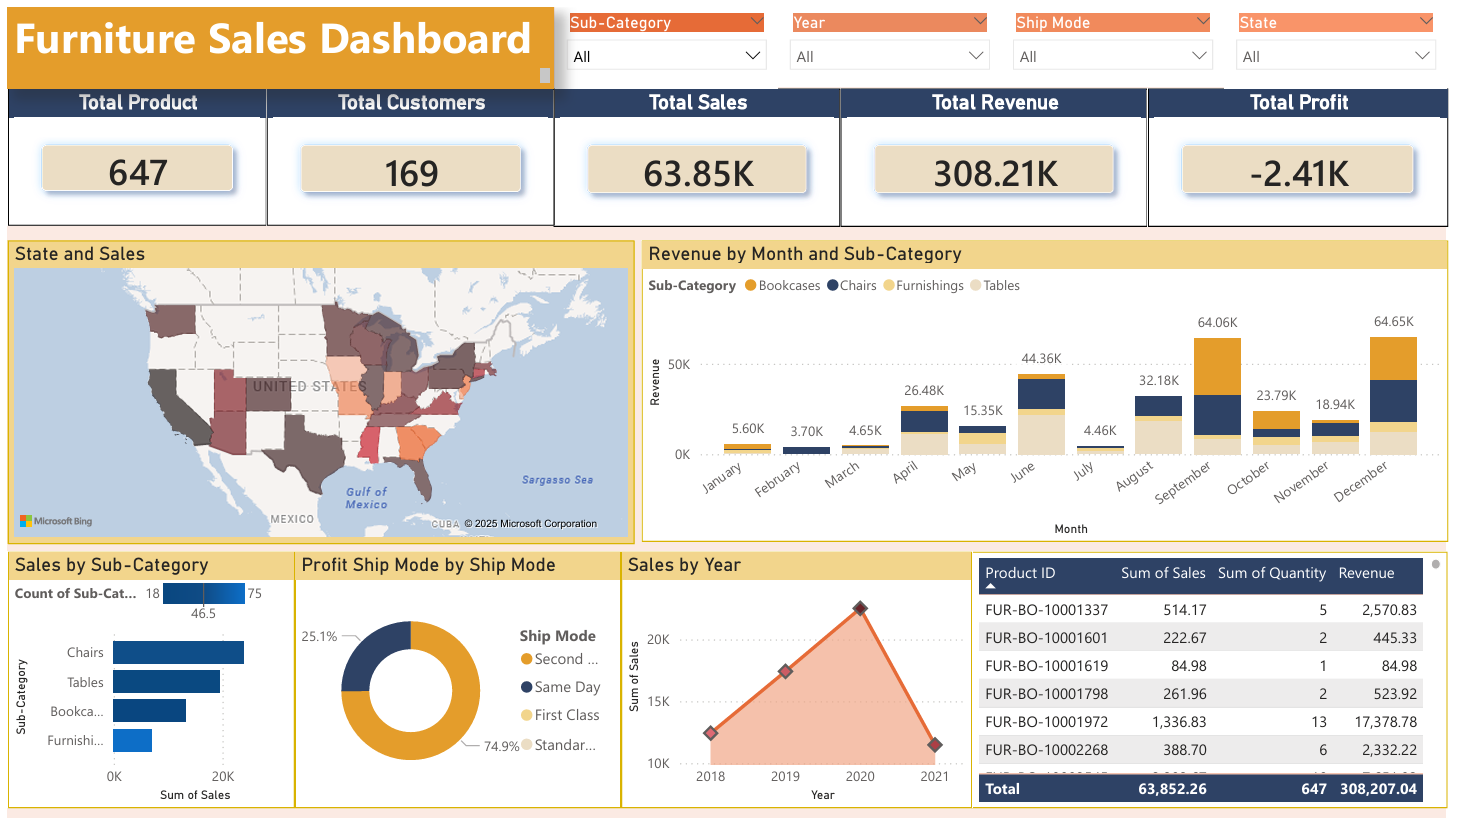

The page's visual inventory and layout, read from the dashboard file:
{"tool":"powerbi","page":{"name":"Dashboard","canvas":[1280,720],"ordinal":0},"visuals":[{"type":"shape","box":[0,0,1279.1,720],"z":0},{"type":"tableEx","fields":{"Values":["Merge4.Product ID","Sum(Merge4.Sales)","Sum(Merge4.Quantity)","Merge4.Revenue"]},"box":[856.7,483.3,423.3,228.3],"z":1000},{"type":"donutChart","title":"Profit Ship Mode by Ship Mode","fields":{"Y":["Sum(Merge2.Profit Ship Mode)"],"Category":["Merge2.Ship Mode"]},"box":[255,483.3,290,228.3],"z":2000},{"type":"clusteredBarChart","title":"Sales by Sub-Category","fields":{"Category":["Sheet1.Sub-Category"],"Y":["Sum(Sheet1.Sales)"]},"box":[0,483.3,255,228.3],"z":3000},{"type":"lineStackedColumnComboChart","fields":{"Category":["Merge4.Order Date.Variation.Date Hierarchy.Month"],"Y":["Merge4.Revenue"],"Series":["Merge4.Sub-Category"]},"box":[563.3,206.7,716.7,268.3],"z":4000},{"type":"cardVisual","title":"Total Sales","fields":{"Data":["Sum(Sheet1.Sales)"]},"box":[485,71.7,255,123.3],"z":5000},{"type":"cardVisual","title":"Total Product","fields":{"Data":["Sum(Sheet1.Quantity)"]},"box":[0,71.7,230,121.7],"z":6000},{"type":"cardVisual","title":"Total Revenue","fields":{"Data":["Merge4.Revenue"]},"box":[740,71.7,273.3,123.3],"z":7000},{"type":"cardVisual","title":"Total Customers","fields":{"Data":["CountNonNull(Sheet1.Row ID)"]},"box":[230,72,256,122],"z":8000},{"type":"cardVisual","title":"Total Profit","fields":{"Data":["Sum(Sheet1.Profit)"]},"box":[1013.3,71.7,266.7,123.3],"z":9000},{"type":"slicer","fields":{"Values":["Merge4.Sub-Category"]},"box":[486.7,0,198.3,71.7],"z":10000},{"type":"slicer","fields":{"Values":["Merge4.Order Date.Variation.Date Hierarchy.Year","Merge4.Order Date.Variation.Date Hierarchy.Quarter","Merge4.Order Date.Variation.Date Hierarchy.Month","Merge4.Order Date.Variation.Date Hierarchy.Day"]},"box":[684.4,0,198.4,71.2],"z":11000},{"type":"slicer","fields":{"Values":["Sheet1.Ship Mode"]},"box":[882.8,0,198.4,71.2],"z":12000},{"type":"slicer","fields":{"Values":["Sheet1.State"]},"box":[1081.7,0,198.3,71.7],"z":13000},{"type":"textbox","title":"Furniture Sales Dashboard","box":[0,0,485.7,71.8],"z":14000},{"type":"filledMap","title":"State and Sales","fields":{"Category":["Sheet1.State"],"Series":["Merge6.Count"]},"box":[0,206.7,556.7,270],"z":15000},{"type":"areaChart","title":"Sales by Year","fields":{"Category":["Sheet1.Order Date.Variation.Date Hierarchy.Year"],"Y":["Sum(Sheet1.Sales)"]},"box":[545,483.3,311.7,228.3],"z":16000}]}

Visuals, with their boxes in screenshot pixels (x1, y1, x2, y2), scaled from the page's 1280x720 canvas onto the 1457x828 screenshot:
shape: l=0, t=0, r=1456, b=827
tableEx - Merge4.Product ID x Sum(Merge4.Sales): l=975, t=556, r=1456, b=818
"Profit Ship Mode by Ship Mode" donutChart: l=290, t=556, r=620, b=818
"Sales by Sub-Category" clusteredBarChart: l=0, t=556, r=290, b=818
lineStackedColumnComboChart - Merge4.Order Date.Variation.Date Hierarchy.Month x Merge4.Revenue: l=641, t=238, r=1456, b=546
"Total Sales" cardVisual: l=552, t=82, r=842, b=224
"Total Product" cardVisual: l=0, t=82, r=262, b=222
"Total Revenue" cardVisual: l=842, t=82, r=1153, b=224
"Total Customers" cardVisual: l=262, t=83, r=553, b=223
"Total Profit" cardVisual: l=1153, t=82, r=1456, b=224
slicer - Merge4.Sub-Category: l=554, t=0, r=780, b=82
slicer - Merge4.Order Date.Variation.Date Hierarchy.Year x Merge4.Order Date.Variation.Date Hierarchy.Quarter: l=779, t=0, r=1005, b=82
slicer - Sheet1.Ship Mode: l=1005, t=0, r=1231, b=82
slicer - Sheet1.State: l=1231, t=0, r=1456, b=82
"Furniture Sales Dashboard" textbox: l=0, t=0, r=553, b=83
"State and Sales" filledMap: l=0, t=238, r=634, b=548
"Sales by Year" areaChart: l=620, t=556, r=975, b=818
